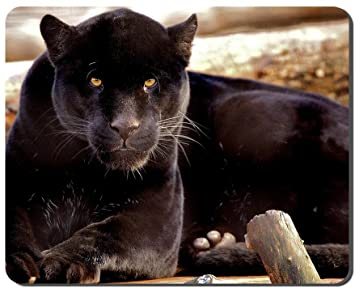panther: (32, 5, 224, 187)
